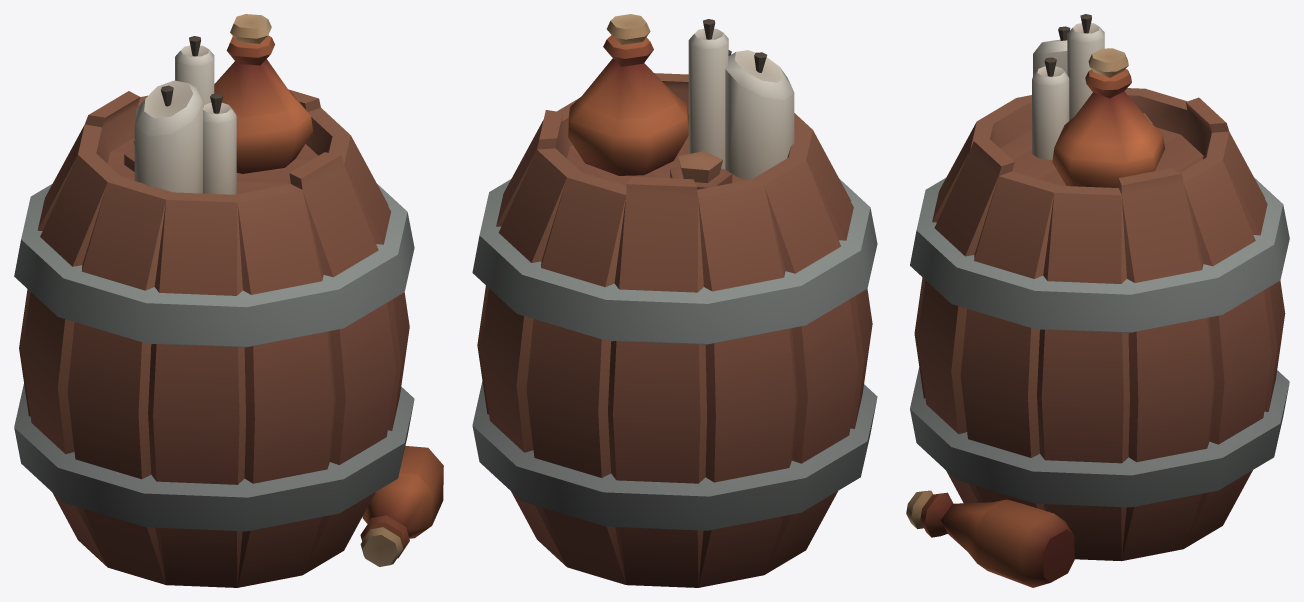
File: barrel-large-decorated.glb
The picture shows the model from 3 angles, left to right: view 1: azimuth 30°, elevation 25°; view 2: azimuth 150°, elevation 25°; view 3: azimuth 270°, elevation 25°; orthographic projection. The views are drawn at different scales.
Parts seen in each view (by area): view 1: barrel-large-decorated; view 2: barrel-large-decorated; view 3: barrel-large-decorated.
Part boxes in pixels (x1,y1,x2,y2): barrel-large-decorated: [14, 14, 443, 587]; barrel-large-decorated: [472, 14, 877, 587]; barrel-large-decorated: [906, 14, 1289, 587].
Bounding box in the file's own units: 1.02 × 1.35 × 0.9798.
